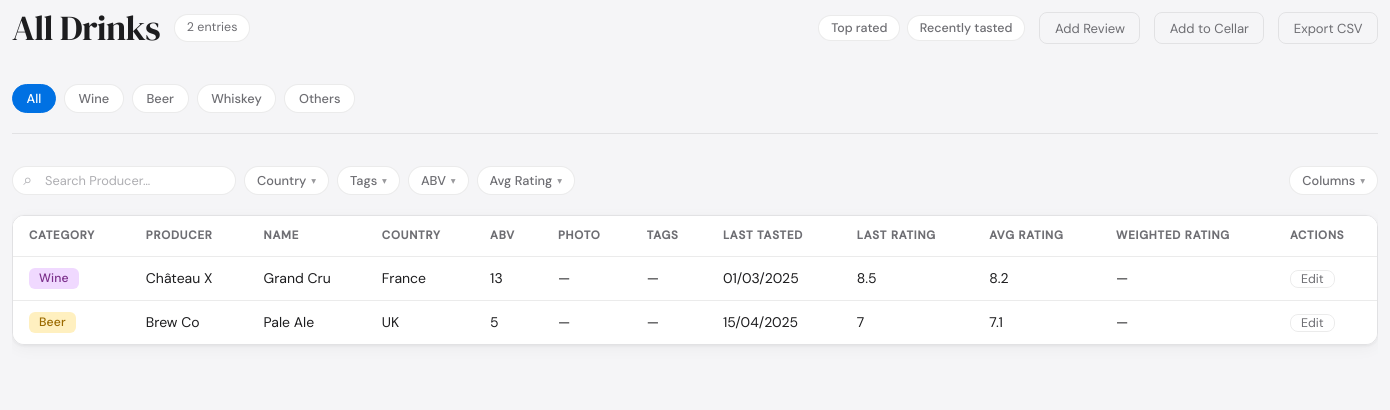
ABV chip shows 0 fallback when only abvMax set
Check: the text "Grand Cru" is shown, box x1=248 y1=256 x2=366 y2=300
Step 1. Click the button with test id "filter-abv" → (438, 180), box x1=408 y1=166 x2=468 y2=194
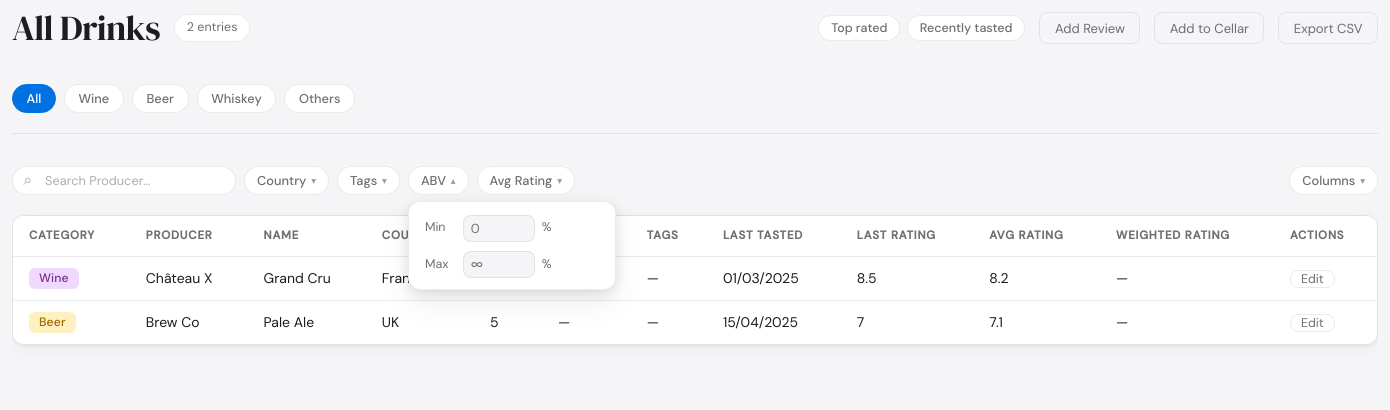
Step 2. Type "15" into the number field with test id "abv-max" → (499, 265), box x1=463 y1=251 x2=535 y2=278
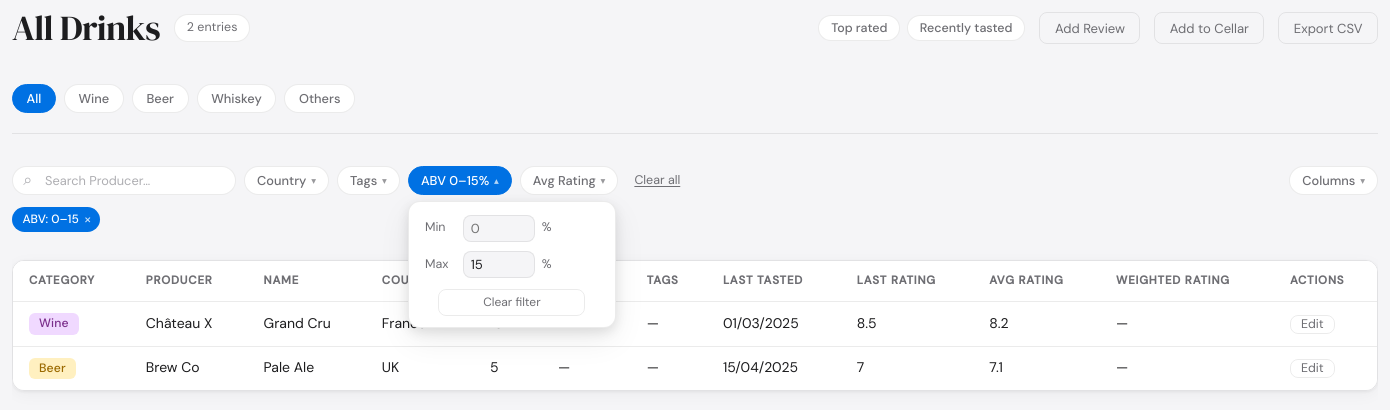
Check: the text "ABV: 0–15" is shown, box x1=12 y1=206 x2=100 y2=232
